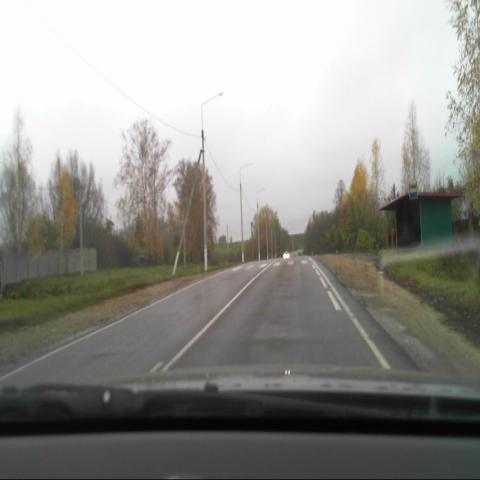5_16: (409, 179, 418, 201)
